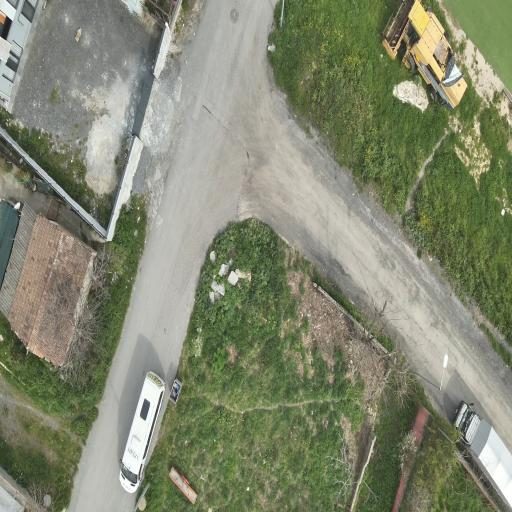bus: (120, 372, 165, 493)
truck: (383, 0, 466, 108), (454, 401, 511, 507)
